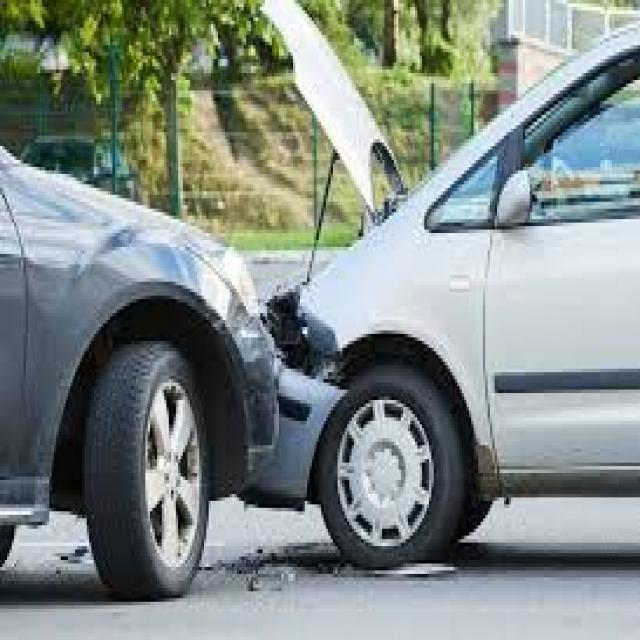accident: (0, 17, 633, 620)
